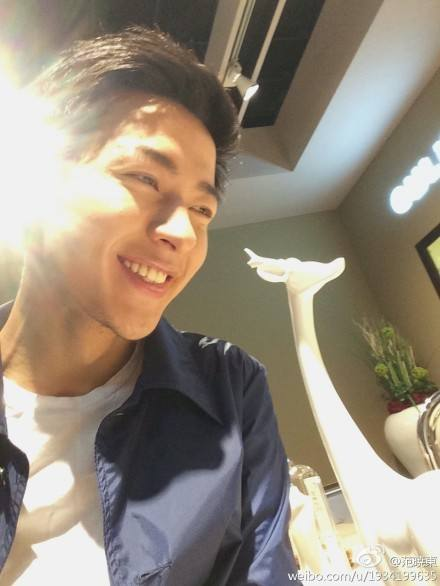person: (7, 65, 284, 466)
